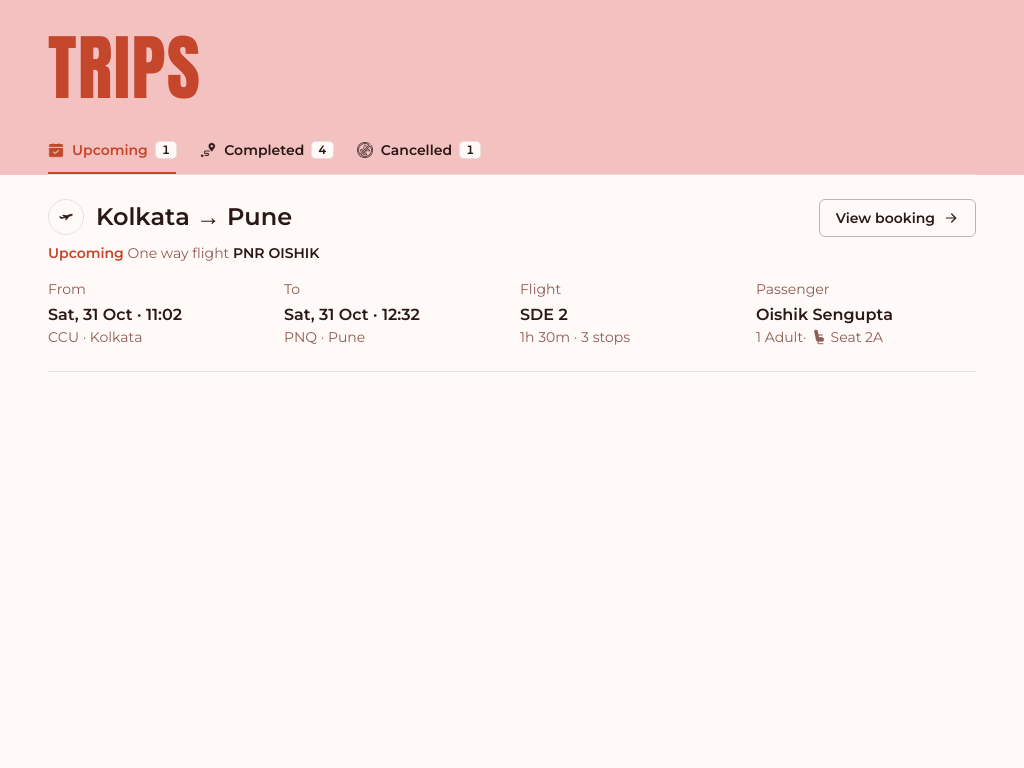
Test: TripsPage › lists the live booking first, then completed and cancelled trips
This screenshot has width=1024, height=768.
Check: the heading "Trips" is shown, box [48,13,202,122]
Check: the heading "Kolkata → Pune" is shown, box [48,199,292,235]
Click the tab "Completed 4".
click(266, 151)  # box [200,128,333,174]
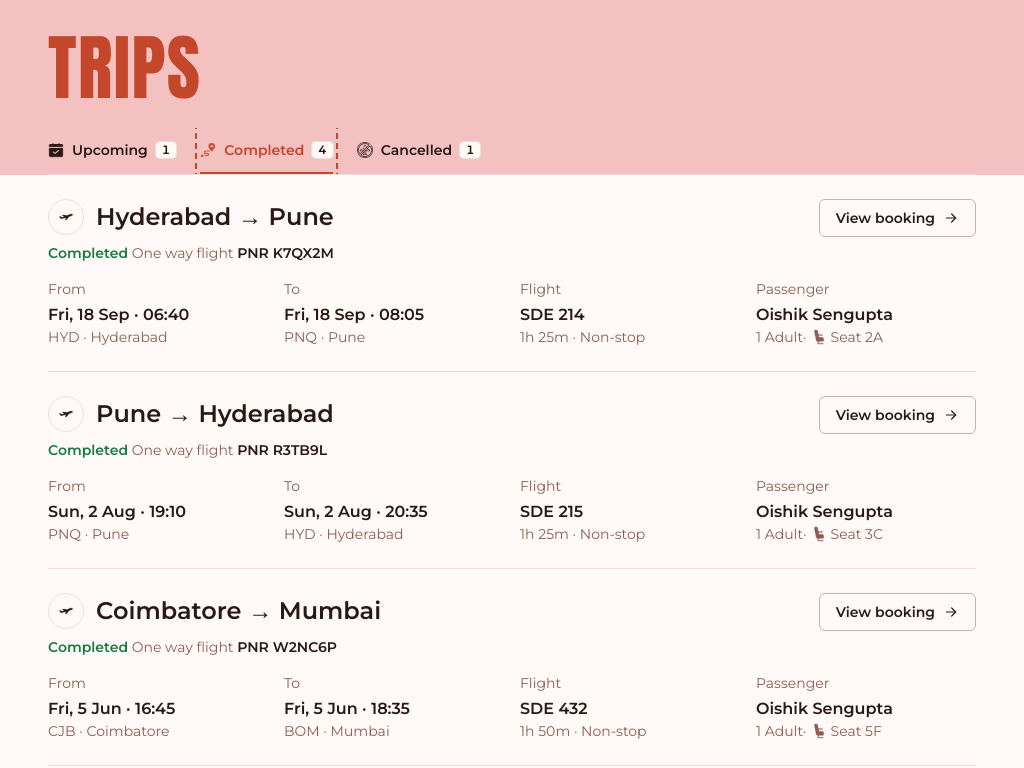
Check: the text "PNR K7QX2M" is shown, box [237,244,334,262]
Click the tab "Cancelled 1".
click(419, 151)  # box [357,128,480,174]
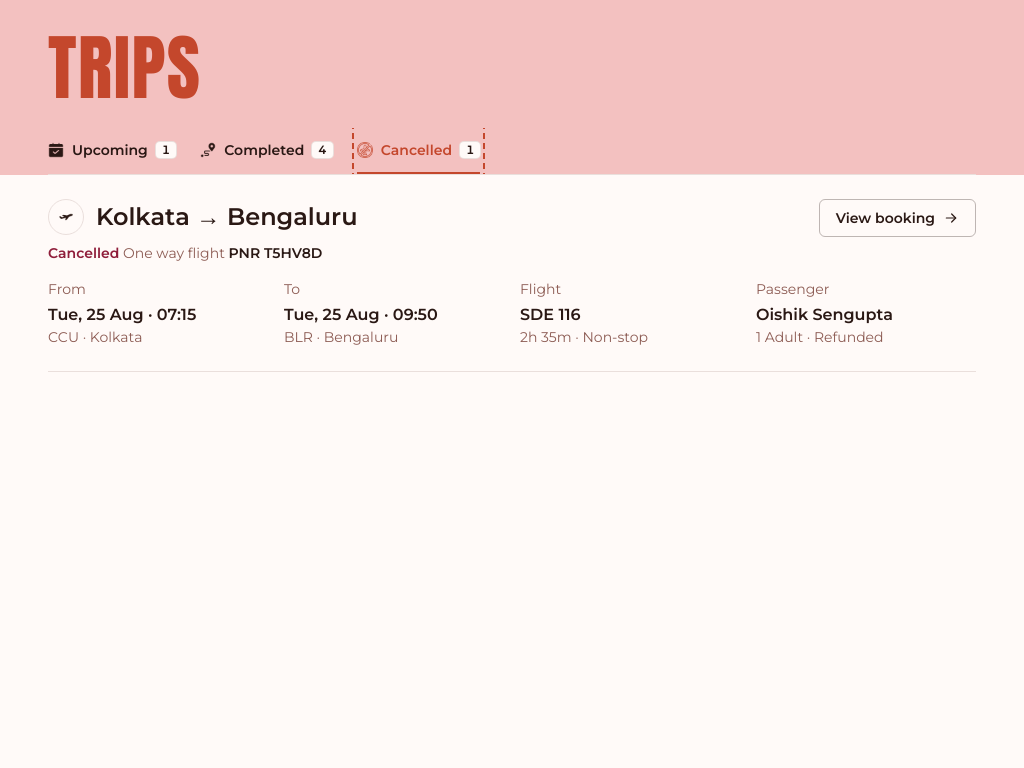
Check: the text "PNR T5HV8D" is shown, box [228,244,322,262]
Check: the text "1 Adult · Refunded" is shown, box [756,328,884,346]
